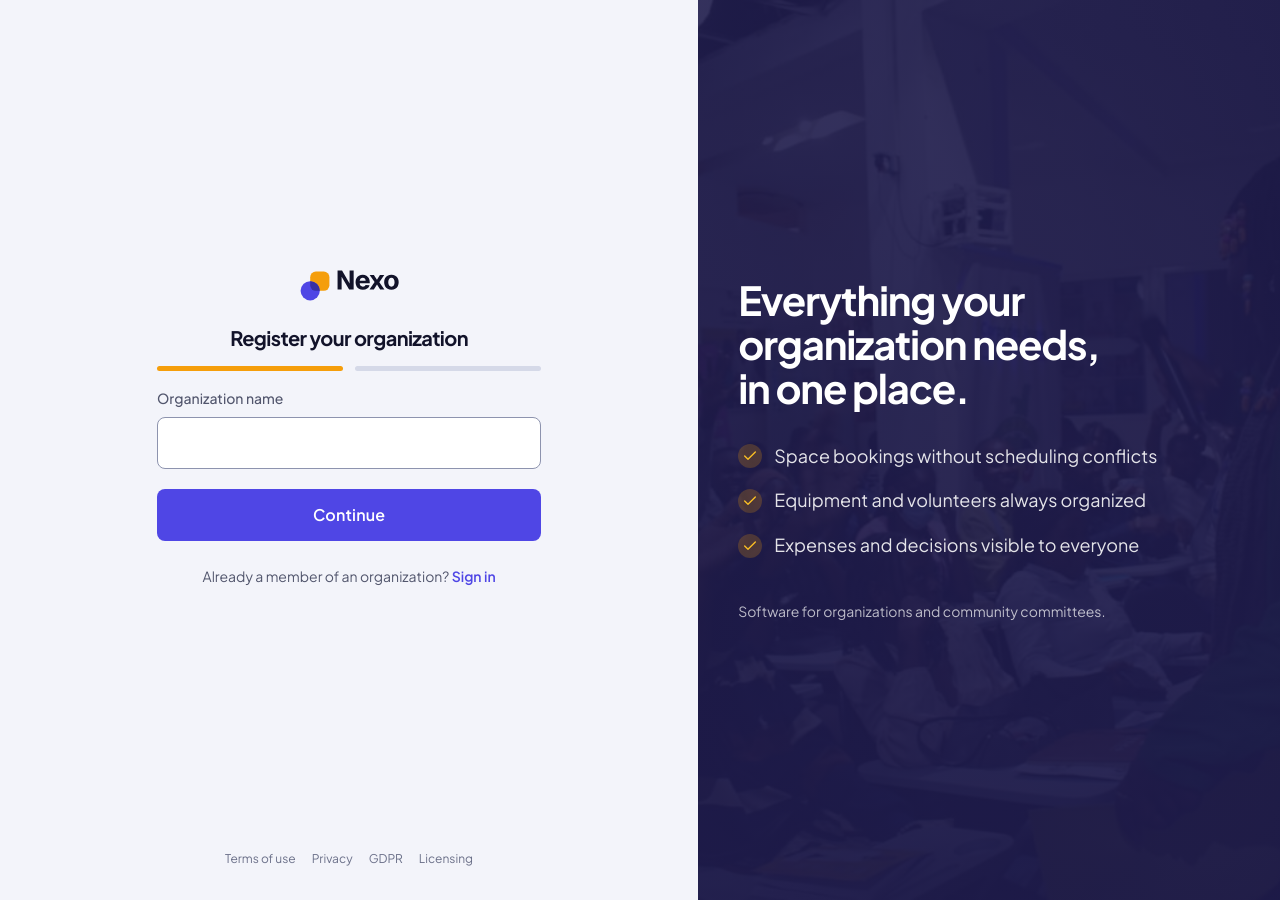
Test: RegisterForm › given an empty organization name, when continuing, then it asks for it and stays on step one
The image size is (1280, 900).
Click the button "Continue" at [349, 515], box [157,489,541,540]
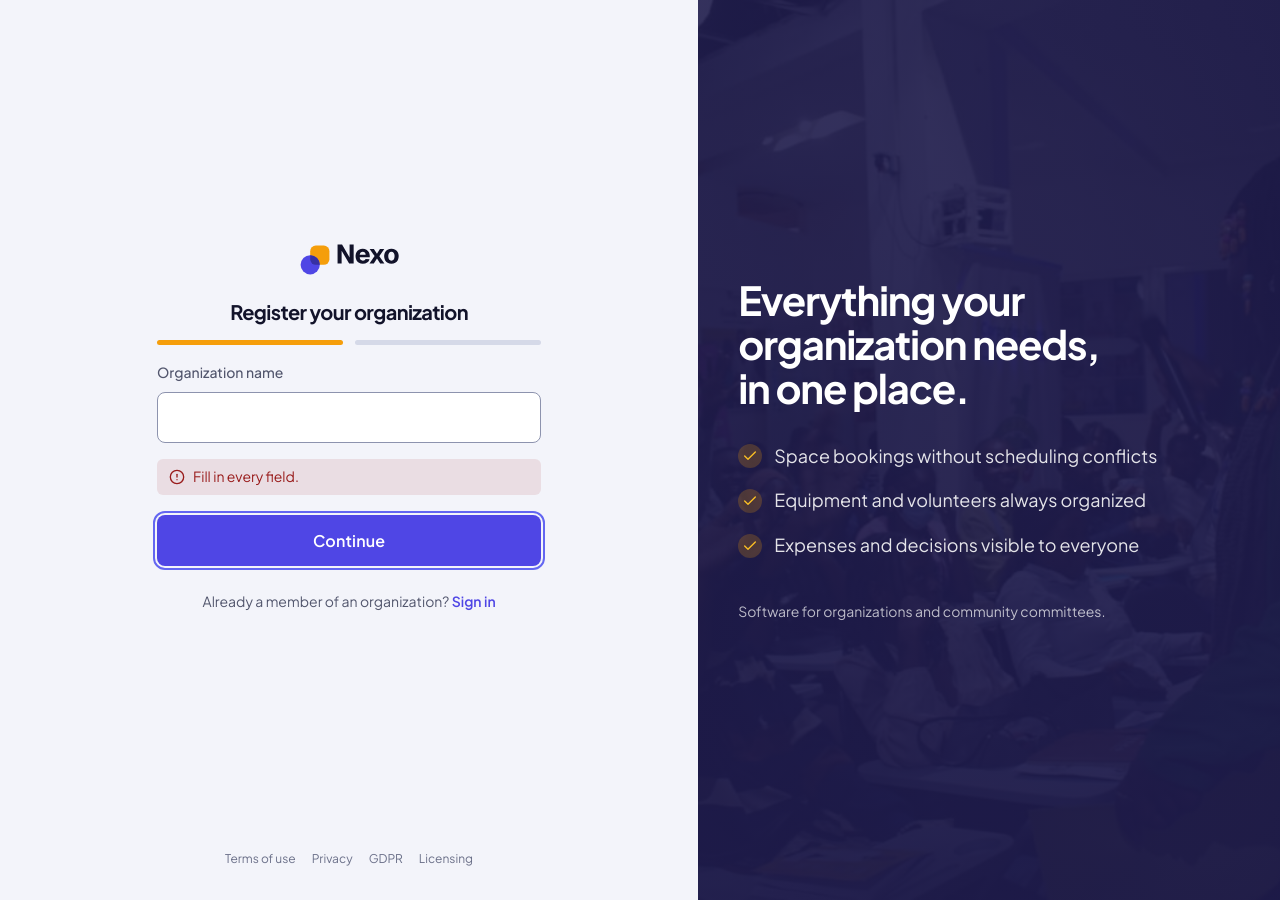
Check: the button "Continue" is shown, box [157,515,541,566]
Check: the message reads "Fill in every field.", box [193,467,299,485]
